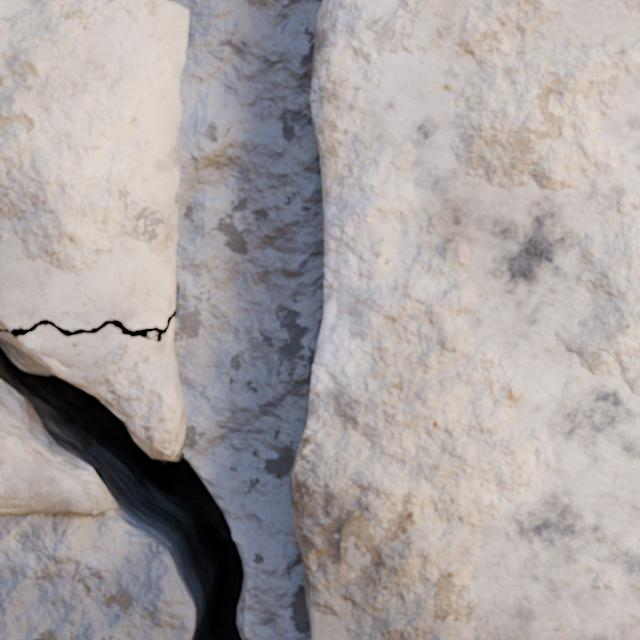broken_brick: (0, 0, 188, 330), (26, 317, 186, 459), (0, 432, 115, 516)
crack: (290, 0, 639, 639), (0, 299, 246, 639), (54, 349, 83, 360), (90, 513, 95, 518)
